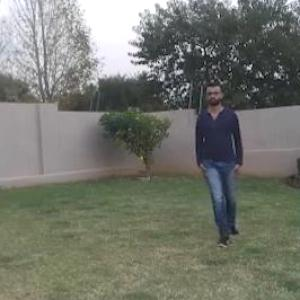follow: (199, 82, 244, 237)
